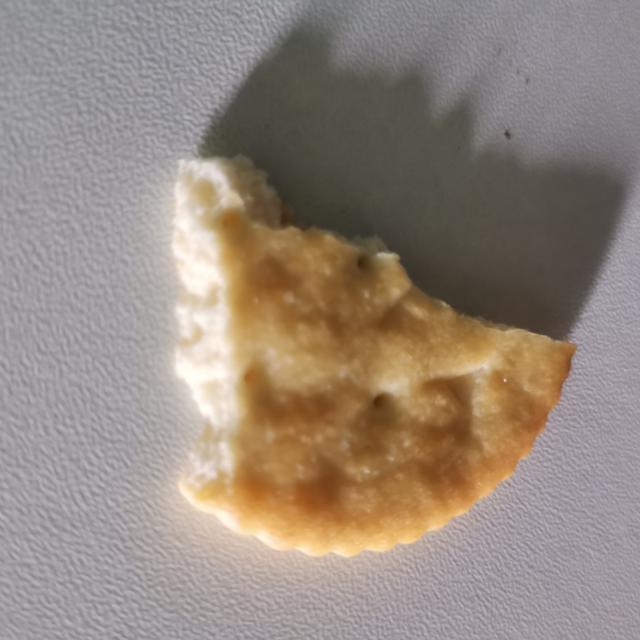Broken: (169, 153, 579, 559)
